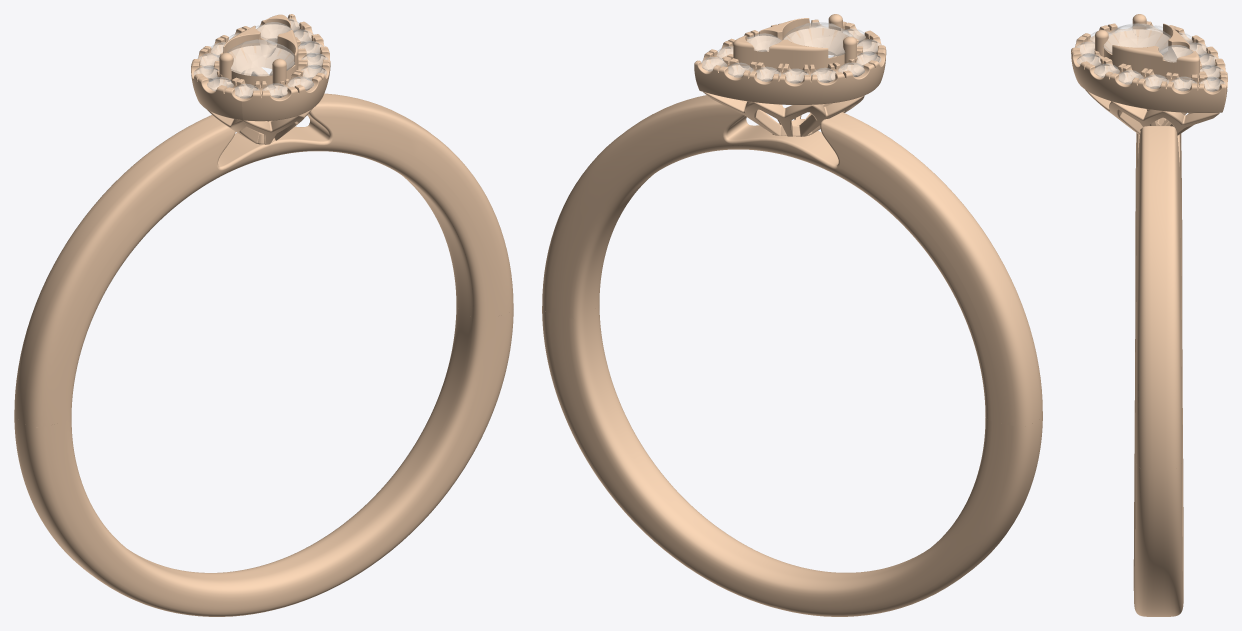
The model's file is twila.glb.
3 views of the same model, side by side, from view 1: azimuth 30°, elevation 25°; view 2: azimuth 150°, elevation 25°; view 3: azimuth 270°, elevation 25° (orthographic). The views are drawn at different scales.
Parts seen in each view (by area): view 1: Metal 01(B6A17323-0F77-4113-B152-78C6447B2C20), Metal 01(A69D6823-4B94-45FE-A0AF-750D85756DBF), Metal 01(0A6E063B-298E-44A8-88FD-11C78F8B7268), Metal 01(623A7844-77AC-4752-8EE7-1116645C5934), Diamond_Round(FAB08196-BAFC-470A-8EE7-33E182F59F20), Metal 01(6A7ABD1A-7BD1-49BB-B56F-067D70CF2F8F), Metal 01(970F79FC-E39B-490C-83CC-94097B1E968F); view 2: Metal 01(B6A17323-0F77-4113-B152-78C6447B2C20), Metal 01(A69D6823-4B94-45FE-A0AF-750D85756DBF), Metal 01(0A6E063B-298E-44A8-88FD-11C78F8B7268), Metal 01(623A7844-77AC-4752-8EE7-1116645C5934), Metal 01(970F79FC-E39B-490C-83CC-94097B1E968F), Diamond_Round(FAB08196-BAFC-470A-8EE7-33E182F59F20); view 3: Metal 01(B6A17323-0F77-4113-B152-78C6447B2C20), Metal 01(A69D6823-4B94-45FE-A0AF-750D85756DBF), Metal 01(0A6E063B-298E-44A8-88FD-11C78F8B7268), Metal 01(623A7844-77AC-4752-8EE7-1116645C5934), Diamond_Round(FAB08196-BAFC-470A-8EE7-33E182F59F20) (×7), Metal 01(6A7ABD1A-7BD1-49BB-B56F-067D70CF2F8F), Metal 01(59D29E0C-232A-4AB0-A50F-BC0EAE0DC4AE), Metal 01(DA9F49CD-19B2-4154-BE3F-3CE29D52F7E4).
Boxes of the visible parts, left/top/right/bottom form: Metal 01(B6A17323-0F77-4113-B152-78C6447B2C20): left=14, top=93, right=513, bottom=426; Metal 01(A69D6823-4B94-45FE-A0AF-750D85756DBF): left=14, top=306, right=513, bottom=616; Metal 01(0A6E063B-298E-44A8-88FD-11C78F8B7268): left=191, top=14, right=330, bottom=121; Metal 01(623A7844-77AC-4752-8EE7-1116645C5934): left=223, top=14, right=298, bottom=87; Diamond_Round(FAB08196-BAFC-470A-8EE7-33E182F59F20): left=227, top=39, right=294, bottom=75; Metal 01(6A7ABD1A-7BD1-49BB-B56F-067D70CF2F8F): left=244, top=108, right=312, bottom=144; Metal 01(970F79FC-E39B-490C-83CC-94097B1E968F): left=207, top=67, right=272, bottom=144; Metal 01(B6A17323-0F77-4113-B152-78C6447B2C20): left=542, top=95, right=1042, bottom=426; Metal 01(A69D6823-4B94-45FE-A0AF-750D85756DBF): left=542, top=305, right=1042, bottom=616; Metal 01(0A6E063B-298E-44A8-88FD-11C78F8B7268): left=694, top=19, right=886, bottom=104; Metal 01(623A7844-77AC-4752-8EE7-1116645C5934): left=733, top=18, right=848, bottom=71; Metal 01(970F79FC-E39B-490C-83CC-94097B1E968F): left=703, top=92, right=864, bottom=136; Diamond_Round(FAB08196-BAFC-470A-8EE7-33E182F59F20): left=783, top=22, right=854, bottom=57; Metal 01(B6A17323-0F77-4113-B152-78C6447B2C20): left=1135, top=109, right=1182, bottom=470; Metal 01(A69D6823-4B94-45FE-A0AF-750D85756DBF): left=1133, top=254, right=1183, bottom=616; Metal 01(0A6E063B-298E-44A8-88FD-11C78F8B7268): left=1071, top=21, right=1227, bottom=112; Metal 01(623A7844-77AC-4752-8EE7-1116645C5934): left=1104, top=23, right=1199, bottom=81; Diamond_Round(FAB08196-BAFC-470A-8EE7-33E182F59F20) (×7): left=1094, top=23, right=1225, bottom=91; Metal 01(6A7ABD1A-7BD1-49BB-B56F-067D70CF2F8F): left=1085, top=90, right=1219, bottom=134; Metal 01(59D29E0C-232A-4AB0-A50F-BC0EAE0DC4AE): left=1132, top=14, right=1146, bottom=36; Metal 01(DA9F49CD-19B2-4154-BE3F-3CE29D52F7E4): left=1095, top=30, right=1108, bottom=56.
Size of the model in its own units: 0.0195 by 0.0216 by 0.00557.
